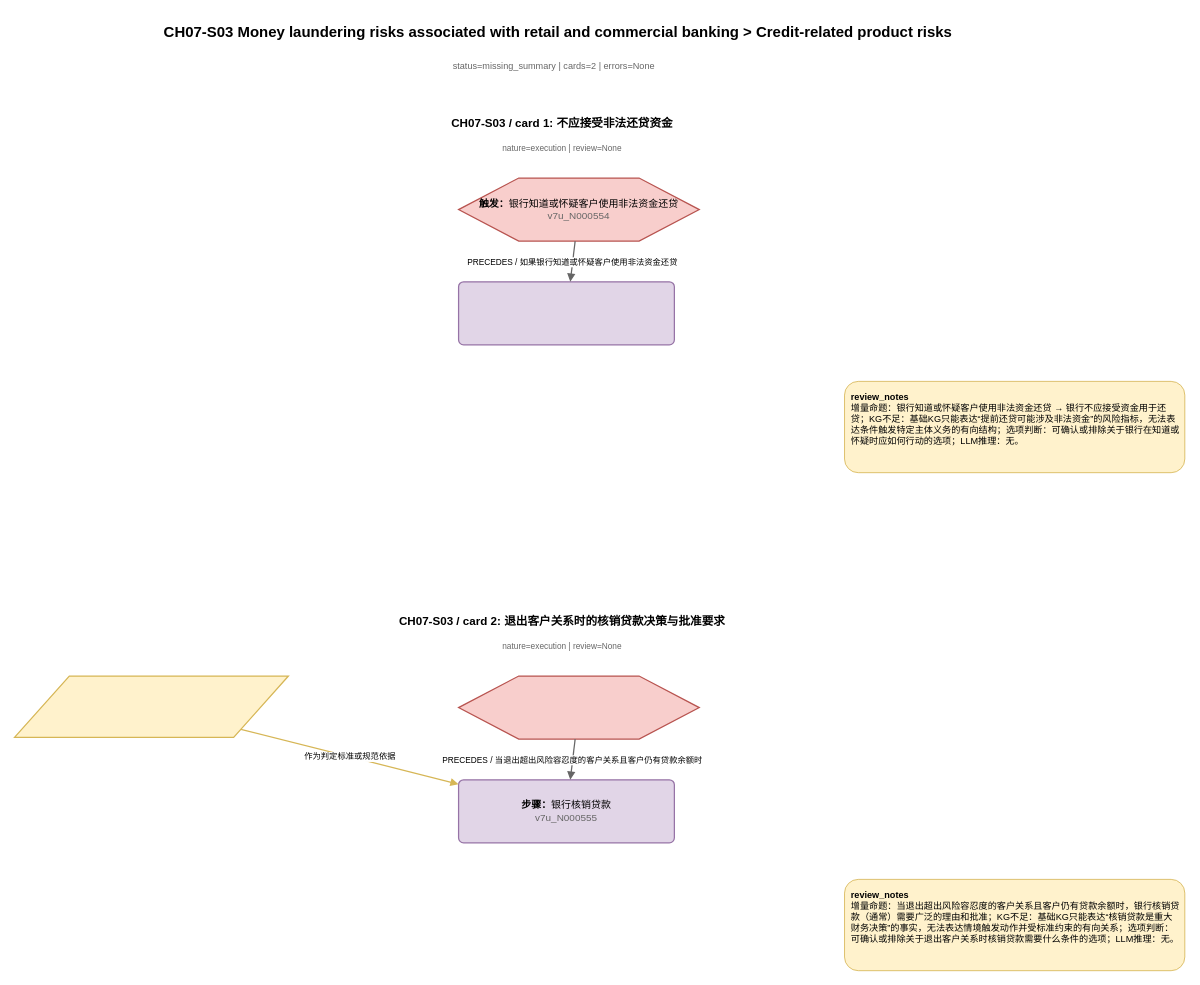
The diagram is 1200 pixels wide and 985 high, and some of its shapes have lost their labels. The centre of each missing label's shape, as x and y in pixels:
"标准： 需要广泛的理由和批准 v7u_N000555" goes at (151,706).
"步骤： 银行不应接受资金用于还贷 v7u_N000554" goes at (566,313).
"触发： 退出超出风险容忍度的客户关系，且客户仍欠贷款余额 v7u_N000555" goes at (579,707).
